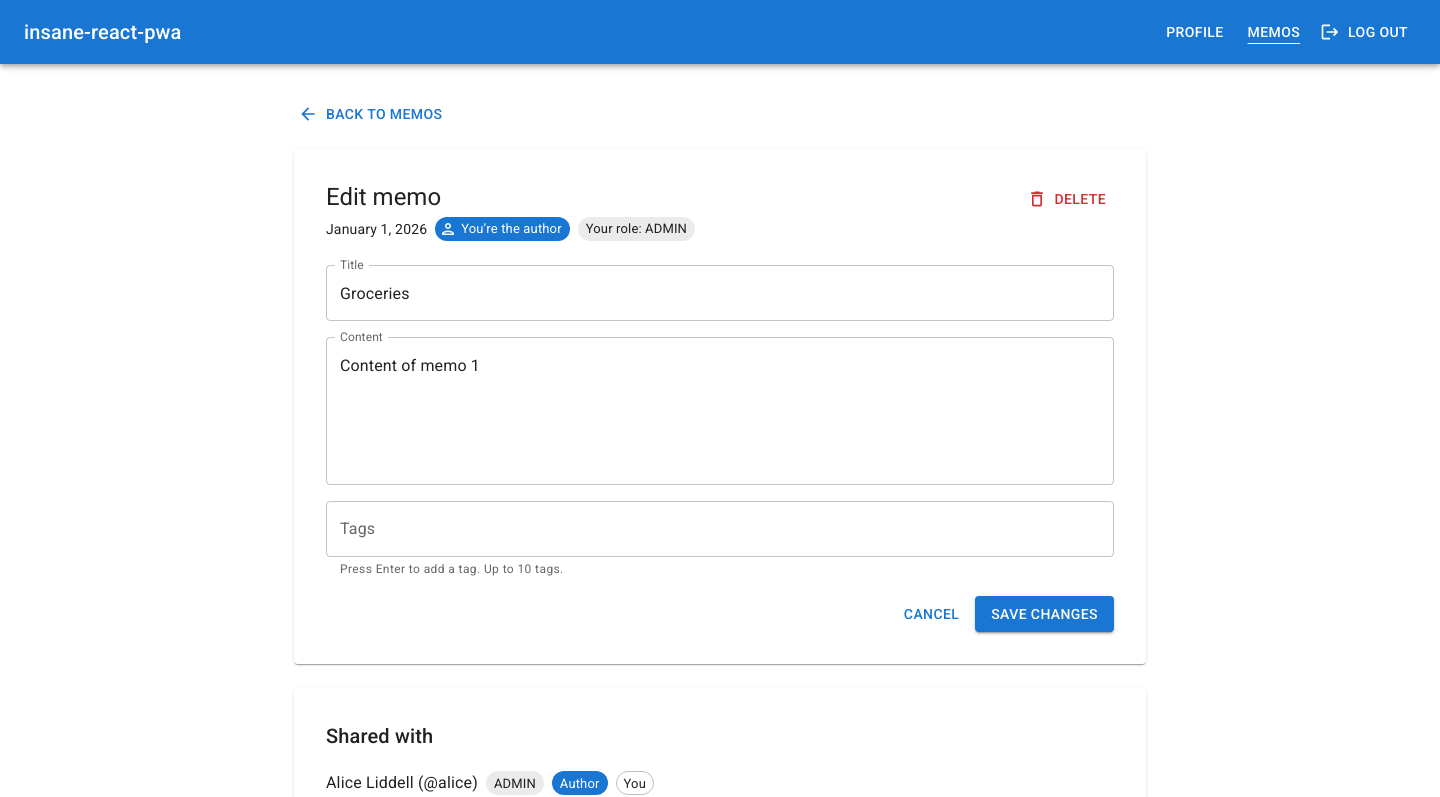
Test: MemoEditorPage › checks the fields before sending anything
Check: the heading "Edit memo" is shown, box top-left (326, 180), bottom-right (441, 217)
Clear the field labelled "Title": (720,293) top-left (326, 265), bottom-right (1114, 321)
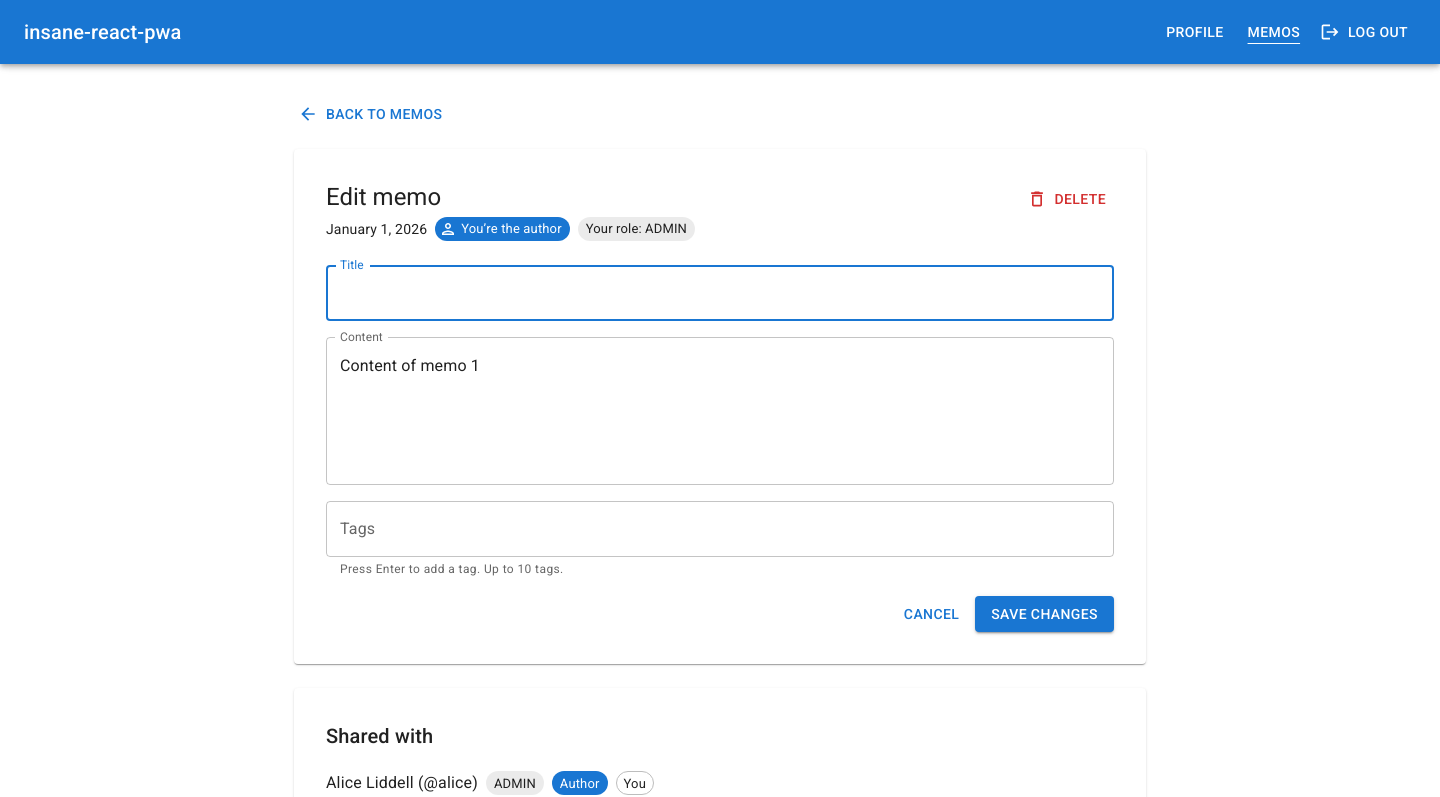
Click the button "Save changes": (1045,614) top-left (975, 596), bottom-right (1114, 632)
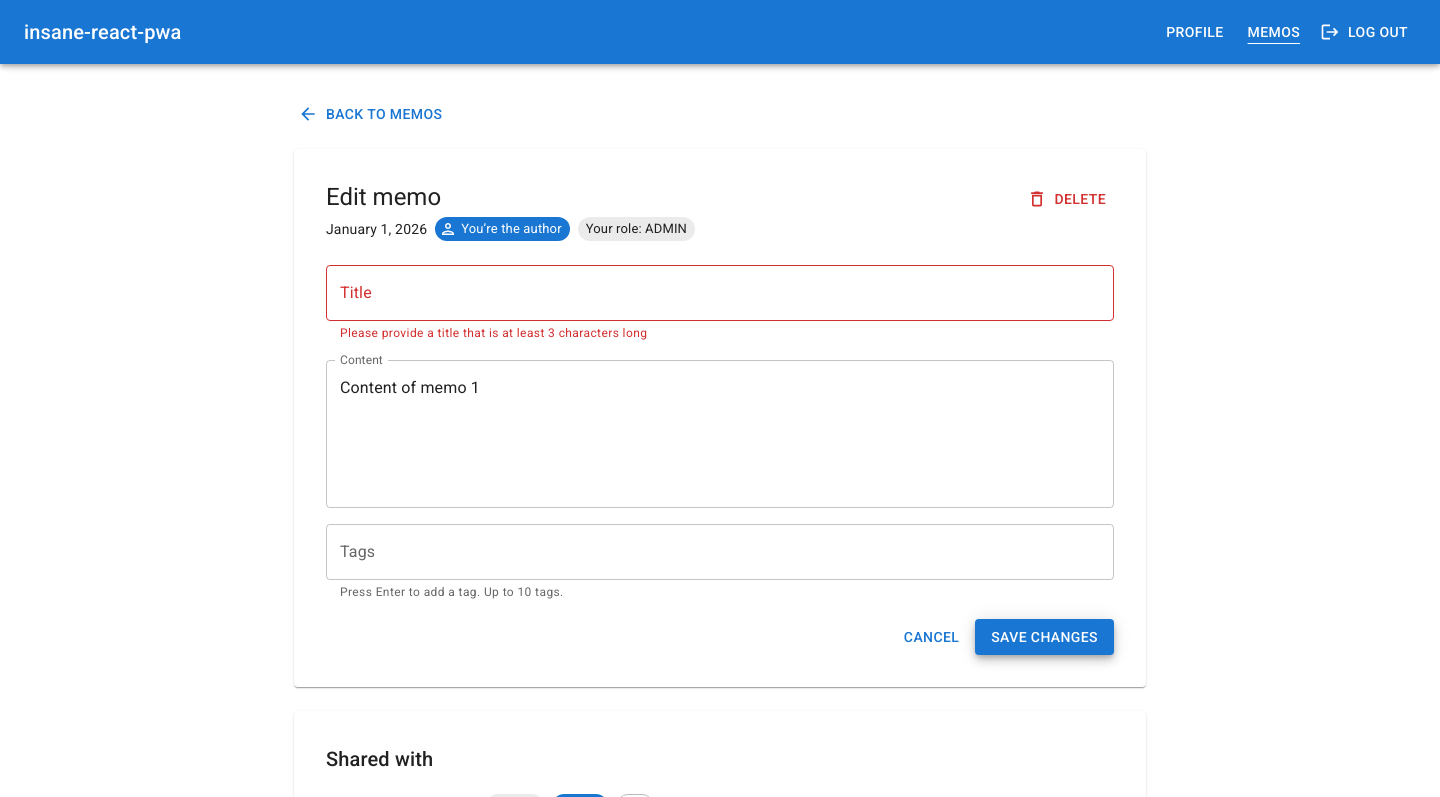
Check: the text "Please provide a title that is at least 3 characters long" is shown, box top-left (340, 326), bottom-right (647, 340)
